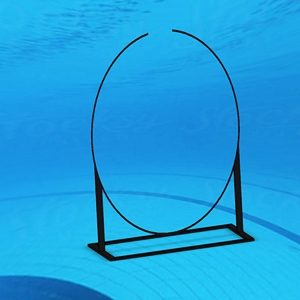circle: (83, 26, 257, 259)
